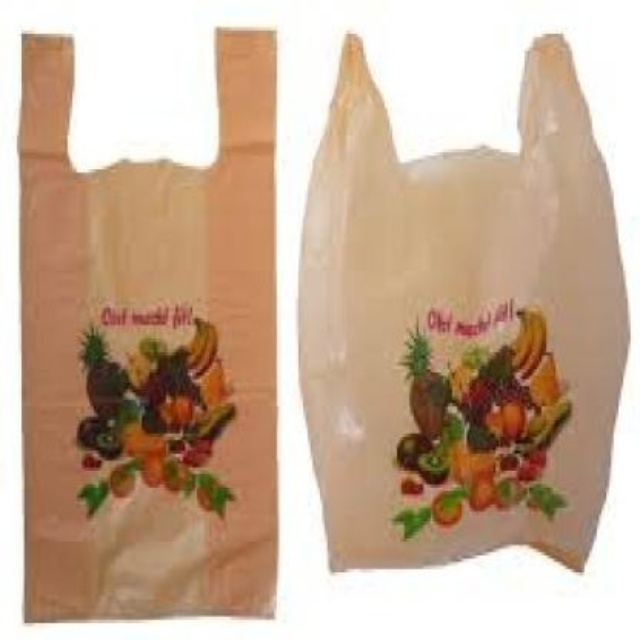trash: (300, 34, 626, 569), (18, 29, 275, 620)
